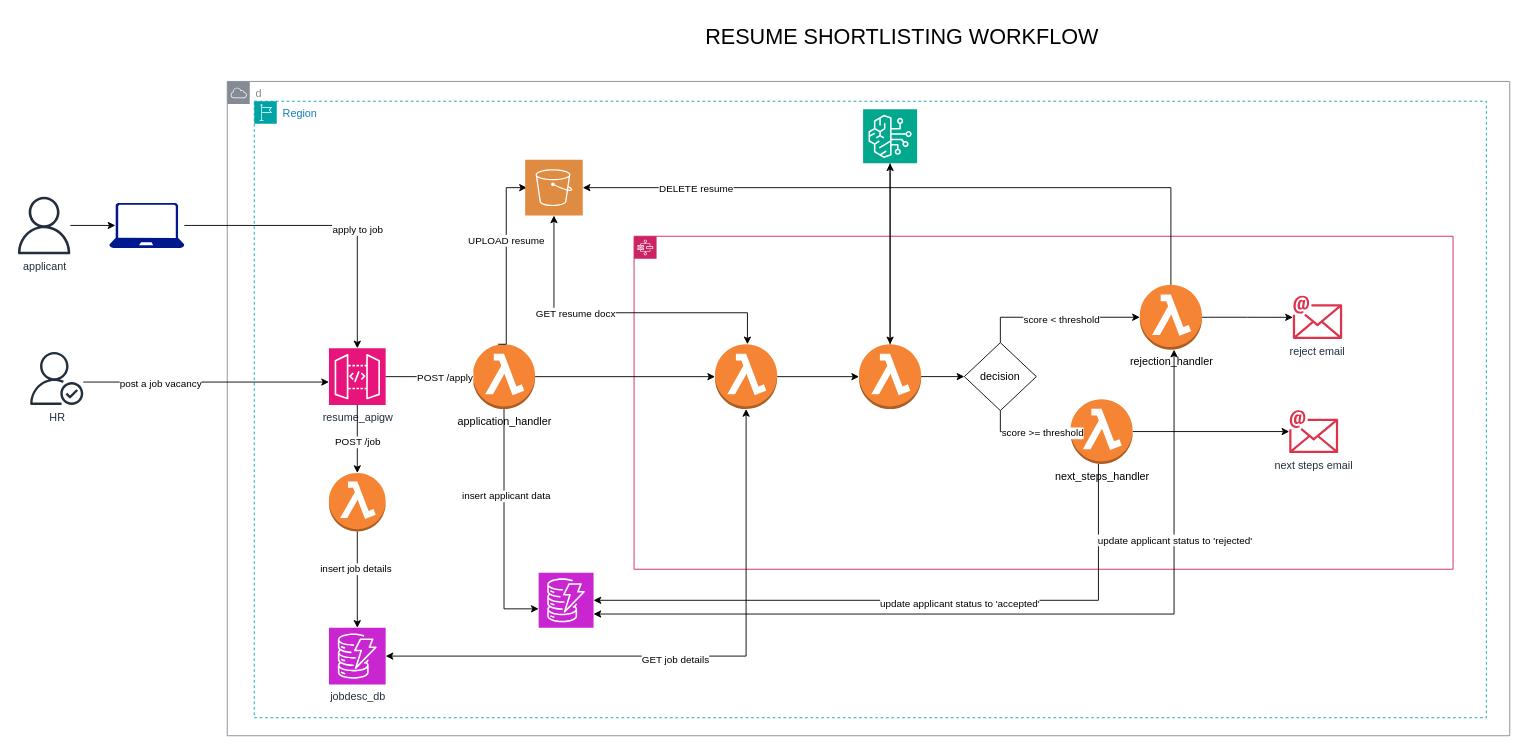
Image size: 1526x752. Some labels were removed from this diagram. Each missing label, with the box of its shape:
applications_db: (538, 572, 594, 628)
AWS Step Functions workflow: (633, 235, 1453, 569)
extract_text_handler: (714, 343, 777, 409)
job_post_handler: (328, 472, 386, 531)
LLM: (862, 108, 917, 163)
score_handler: (858, 343, 921, 409)
